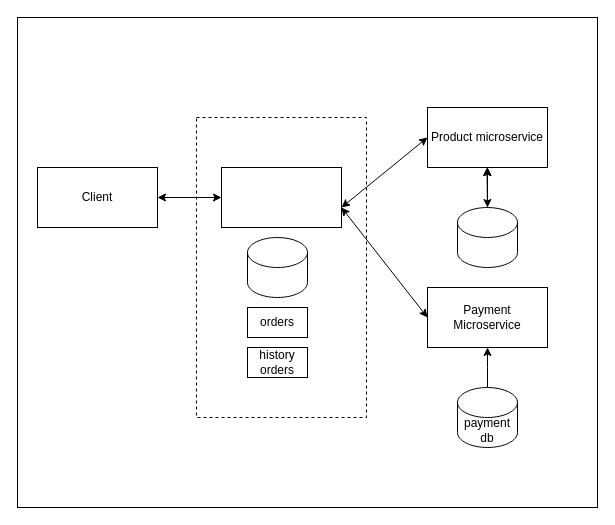
Image size: 615x525. Some labels were removed from this diagram. Here are the shapes that lost their labels. From the top down, the centre of each, then its label:
At pixel 281 197: "Order microservice".
At pixel 487 237: "Products Db".
At pixel 277 267: "Orders DB".
